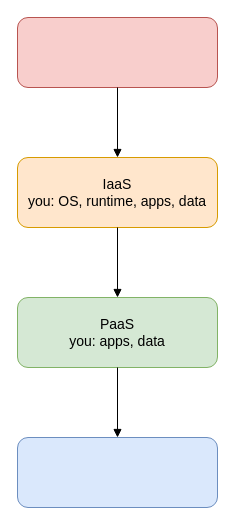
Image size: 235x525. Some labels were removed from this diagram. The shapes that lost their labels are listed below. From the top down, each one's centre as x and y in pixels, then its label:
pixel 117 52: On-premises you manage everything
pixel 117 472: SaaS you: just use it
